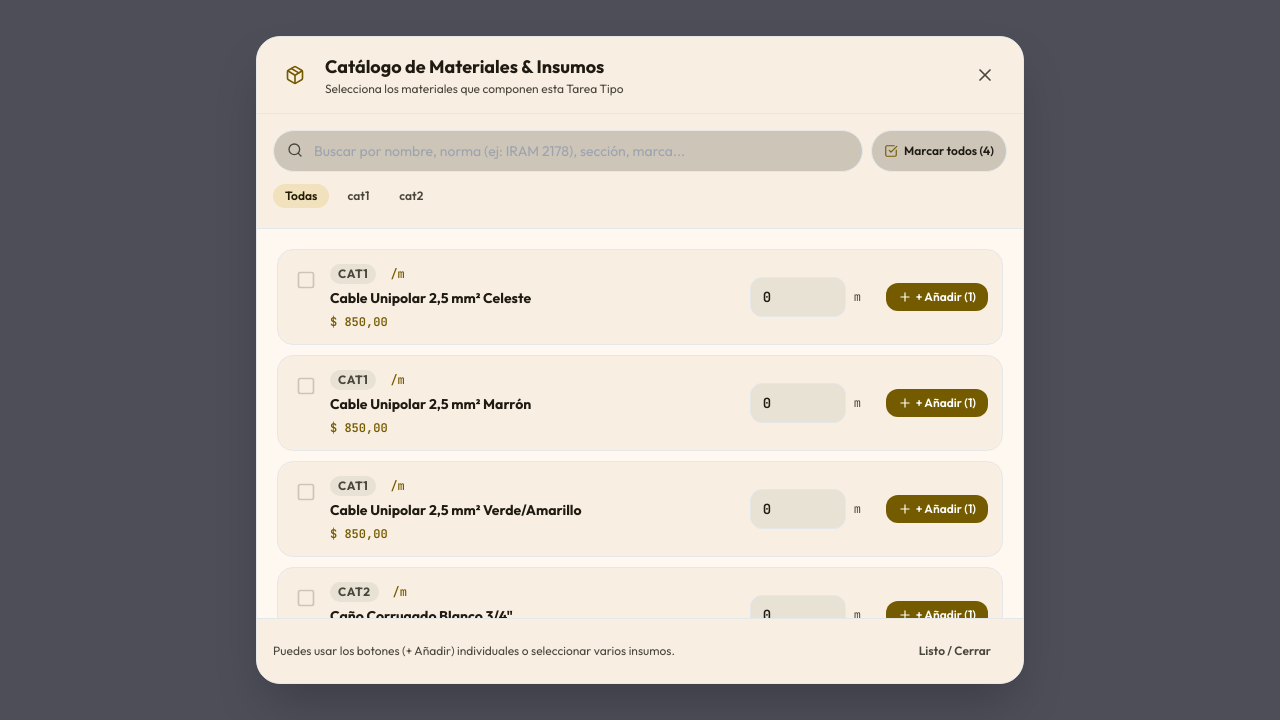
Test: MaterialPickerModal - Selección por Lote con Cantidad Compartida › filtra dinámicamente los chips de categoría al escribir en la búsqueda
The image size is (1280, 720).
Expected: the button "Todas" is shown, [273, 184, 329, 208]
Expected: the button "cat1" is shown, [335, 184, 381, 208]
# Buscar "corrugado"
Type "corrugado" into the field with placeholder "Buscar por nombre, norma (ej: IRAM 2178), sección, marca...". click: (568, 151)
box: [273, 130, 863, 172]
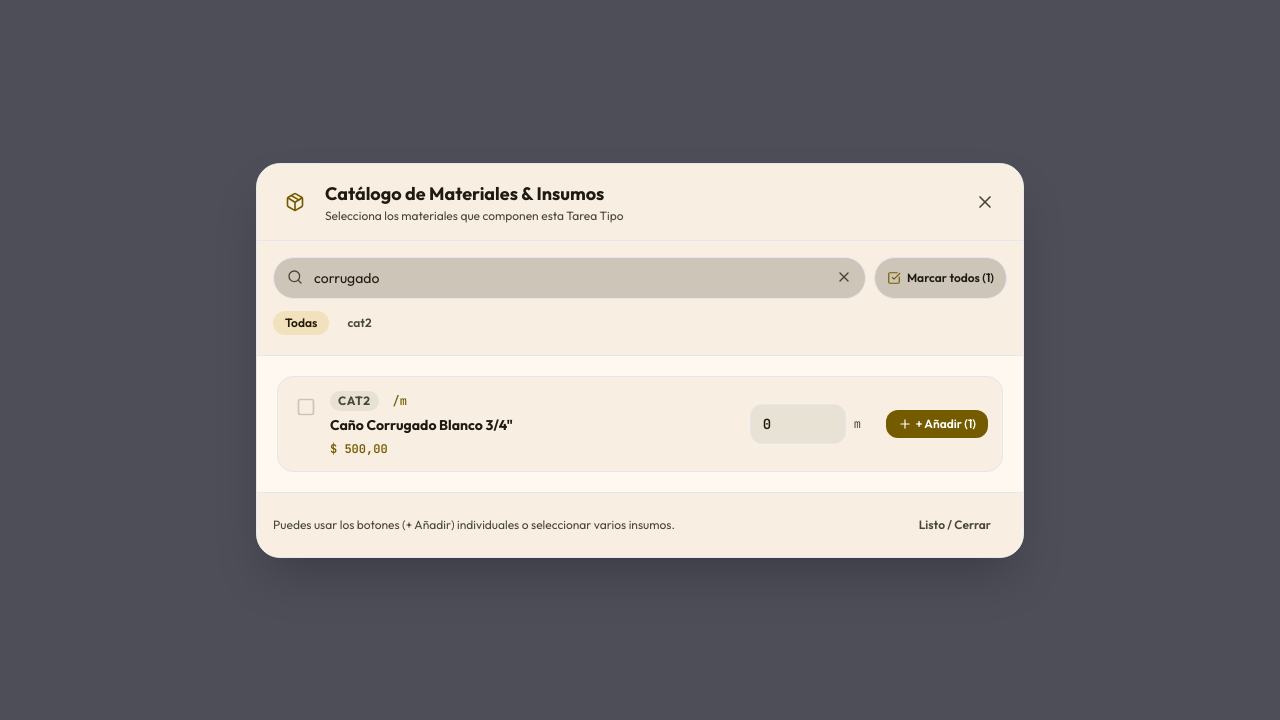
Expected: the button "cat2" is shown, [335, 310, 384, 334]
Expected: the button "cat1" is gone
# Limpiar búsqueda
Clear the 1st field with placeholder "Buscar por nombre, norma (ej: IRAM 2178), sección, marca...". click: (569, 278)
box: [273, 256, 866, 298]
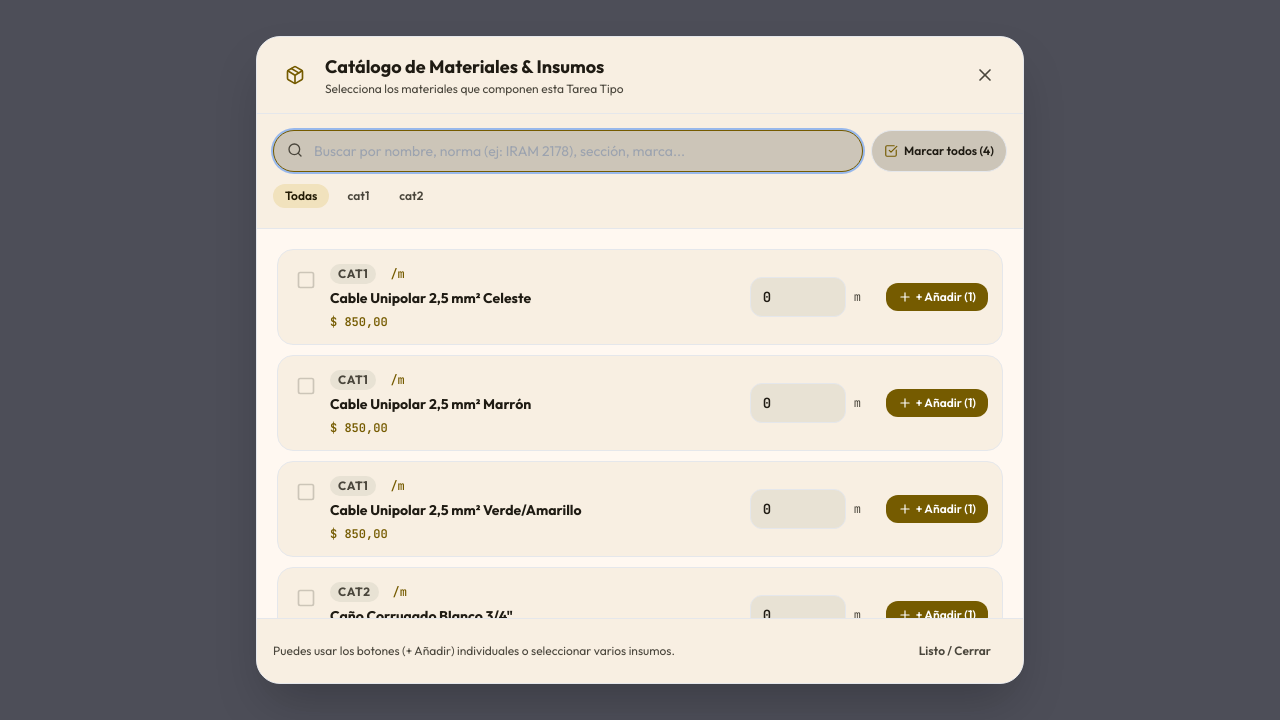
Expected: the button "cat2" is shown, [387, 184, 435, 208]
Expected: the button "cat1" is shown, [335, 184, 381, 208]
